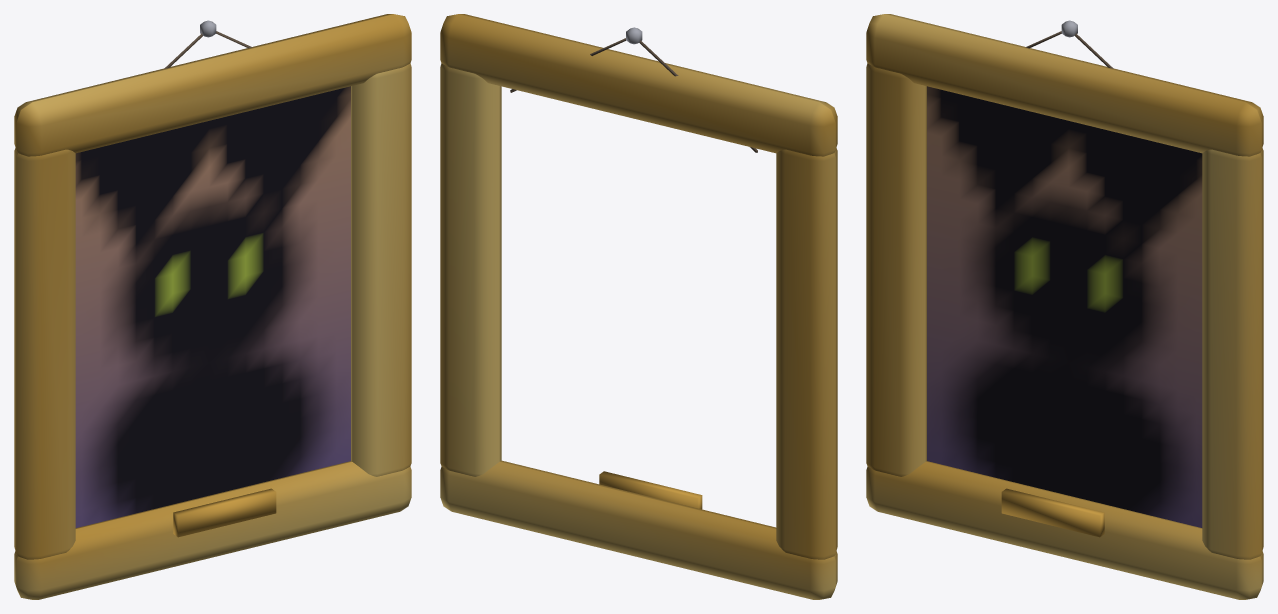
Rendered from portrait.glb.
The picture shows the model from 3 angles, left to right: view 1: azimuth 30°, elevation 25°; view 2: azimuth 150°, elevation 25°; view 3: azimuth 330°, elevation 25°; orthographic projection.
Visible parts, largest first — view 1: painting; view 2: painting; view 3: painting.
Boxes of the visible parts, <box> form: painting: <box>14,14,411,599</box>; painting: <box>440,14,837,599</box>; painting: <box>866,14,1263,599</box>.
Size of the model in its own units: 0.48 by 0.62 by 0.05.
